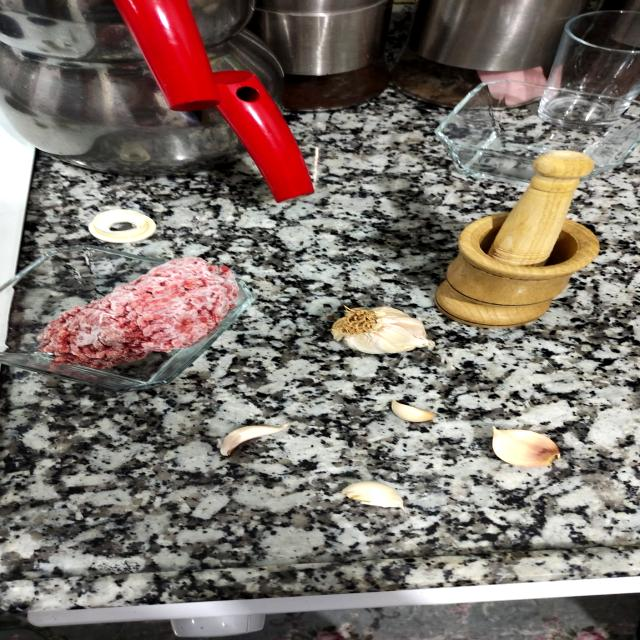garlic: (324, 292, 444, 363), (477, 418, 579, 473), (206, 412, 302, 461), (326, 472, 424, 516), (372, 394, 450, 428)
ground meat: (28, 242, 266, 384)
